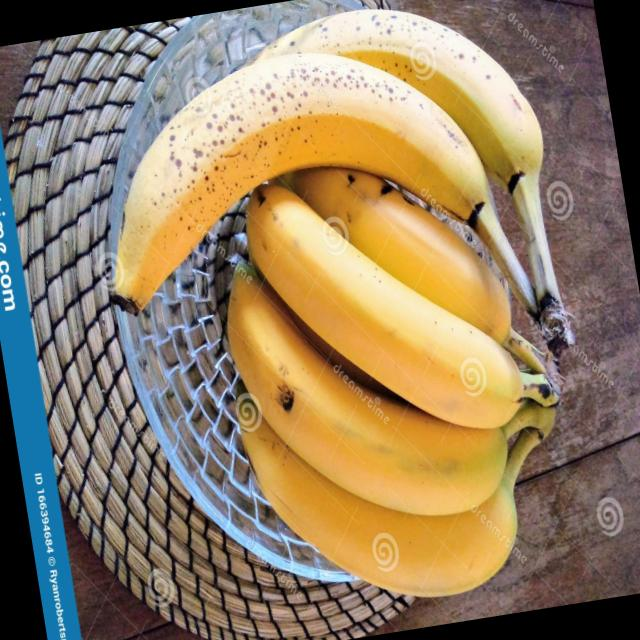Platano: (66, 0, 581, 448), (192, 126, 591, 628)
